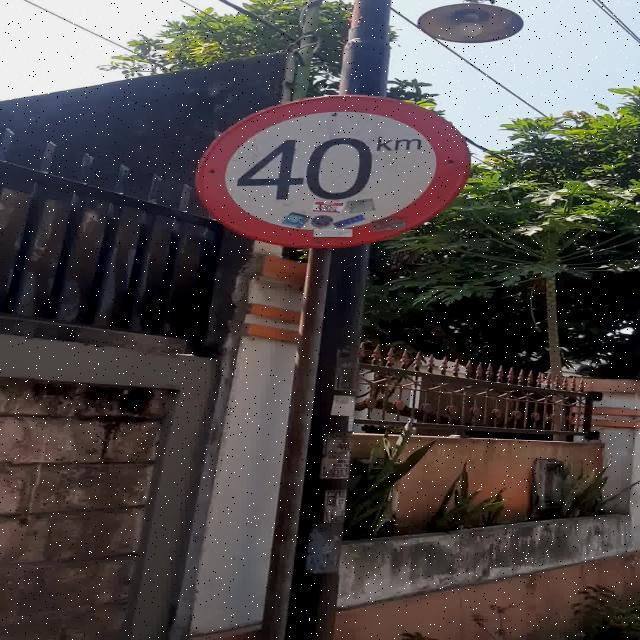Kecepatan Maks. 40 km: (191, 94, 471, 248)
